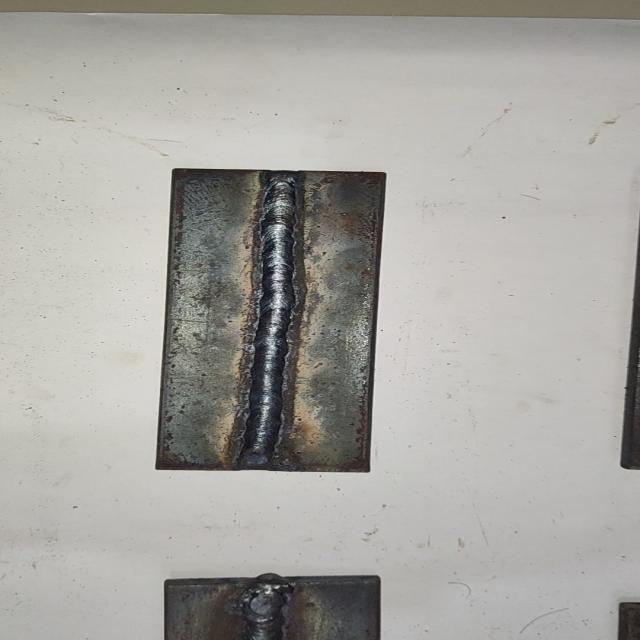Welding Line: (239, 176, 301, 464), (239, 585, 289, 640)
Workpiece: (152, 167, 394, 478), (159, 572, 393, 640)
